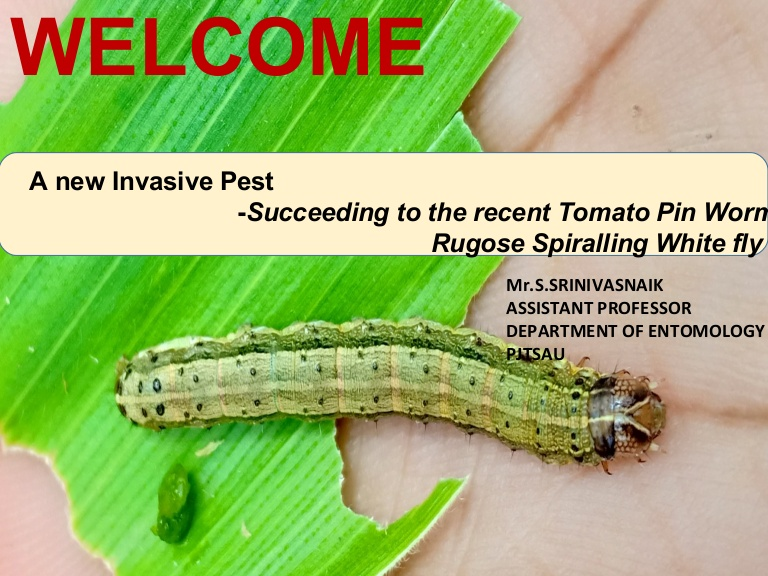Armyworm: (107, 318, 645, 514)
